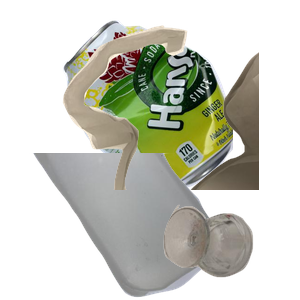glass: (161, 202, 300, 300)
metal: (60, 18, 300, 198)
plastic: (29, 153, 245, 300)
trash: (60, 23, 300, 203)
